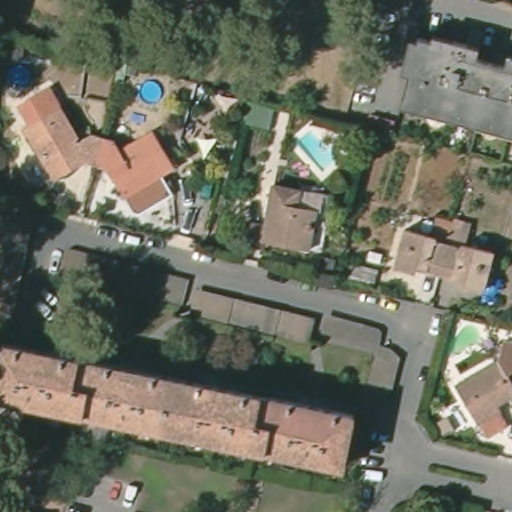pool: (298, 125, 345, 174), (442, 322, 484, 358), (138, 77, 166, 107)
